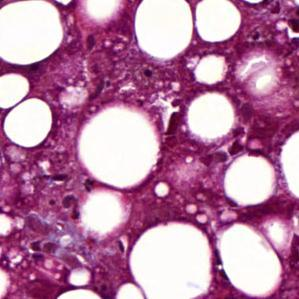steatosis: (0, 0, 64, 65), (4, 97, 52, 149), (196, 0, 241, 46), (0, 71, 34, 110)
